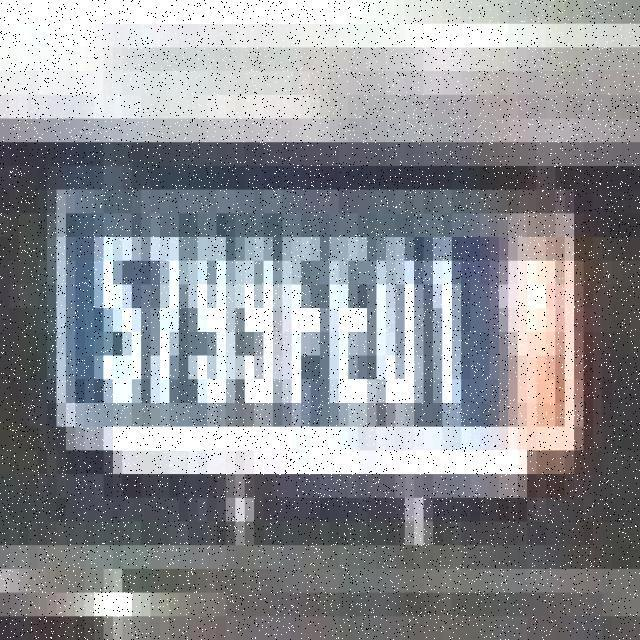LicensePlate: (38, 83, 592, 517)
